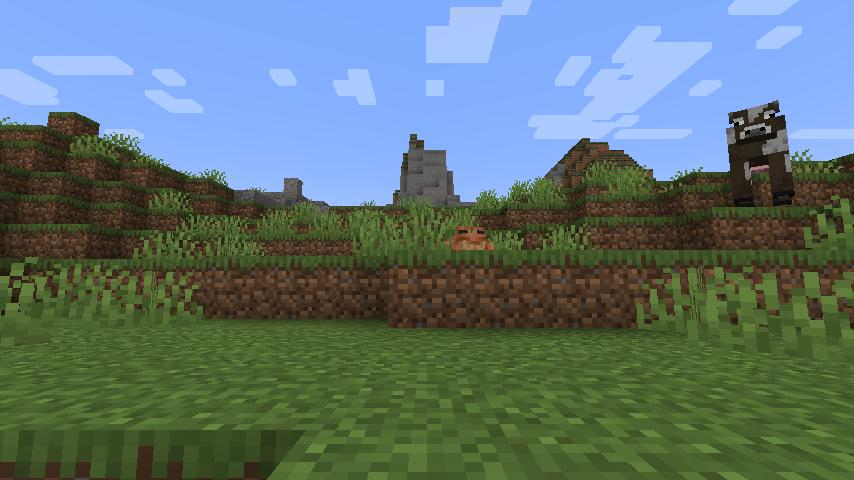cow: (721, 96, 799, 211)
frog: (439, 222, 496, 256)
